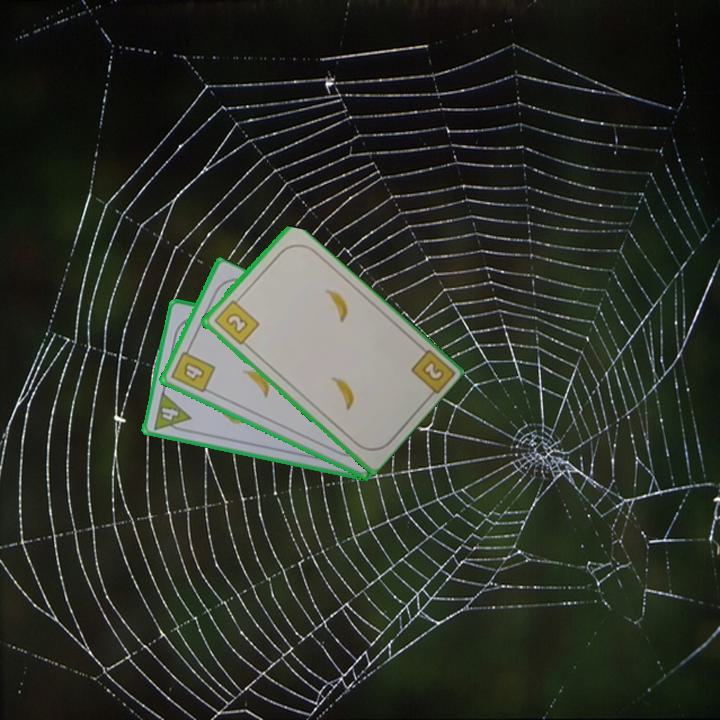2b: (210, 293, 262, 348), (418, 357, 447, 384)
4b: (167, 343, 218, 396)
4p: (150, 388, 193, 436)
